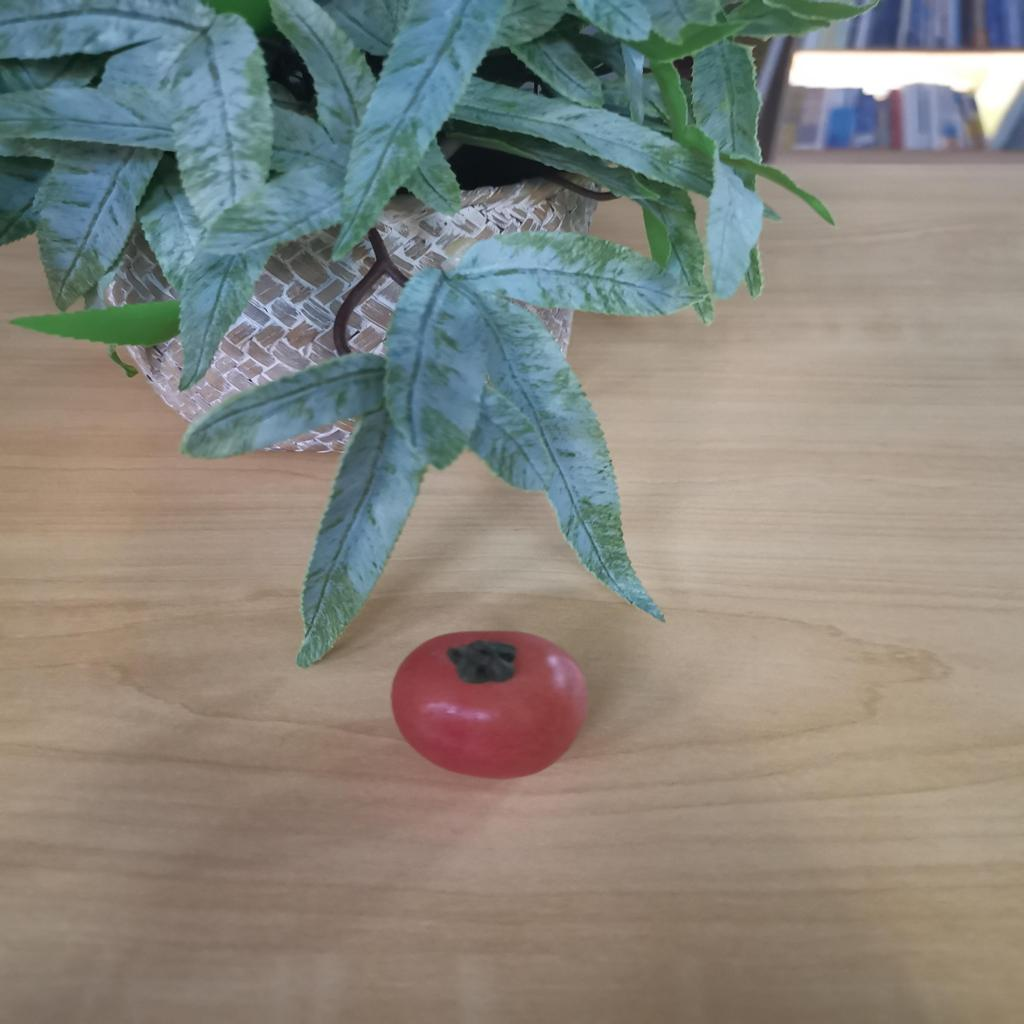tomato: (375, 623, 596, 779)
